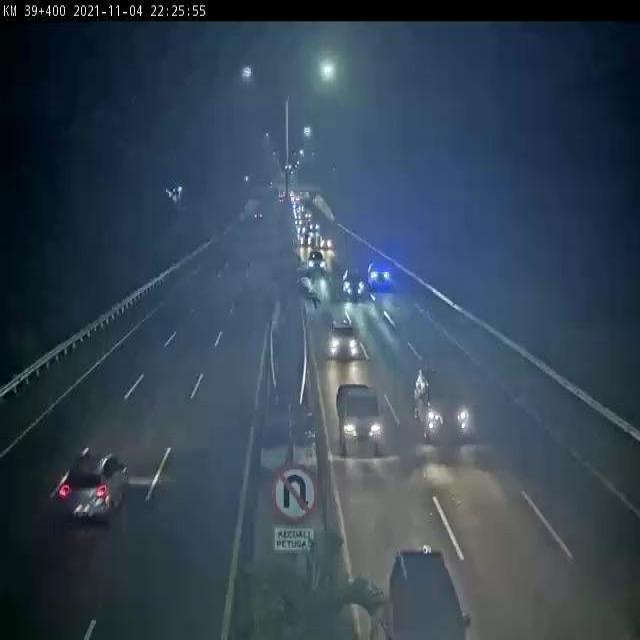car: (383, 538, 470, 640), (51, 442, 137, 534), (408, 353, 480, 460), (332, 383, 386, 464), (368, 249, 398, 296), (328, 322, 362, 362), (338, 267, 370, 300), (305, 269, 333, 300)
